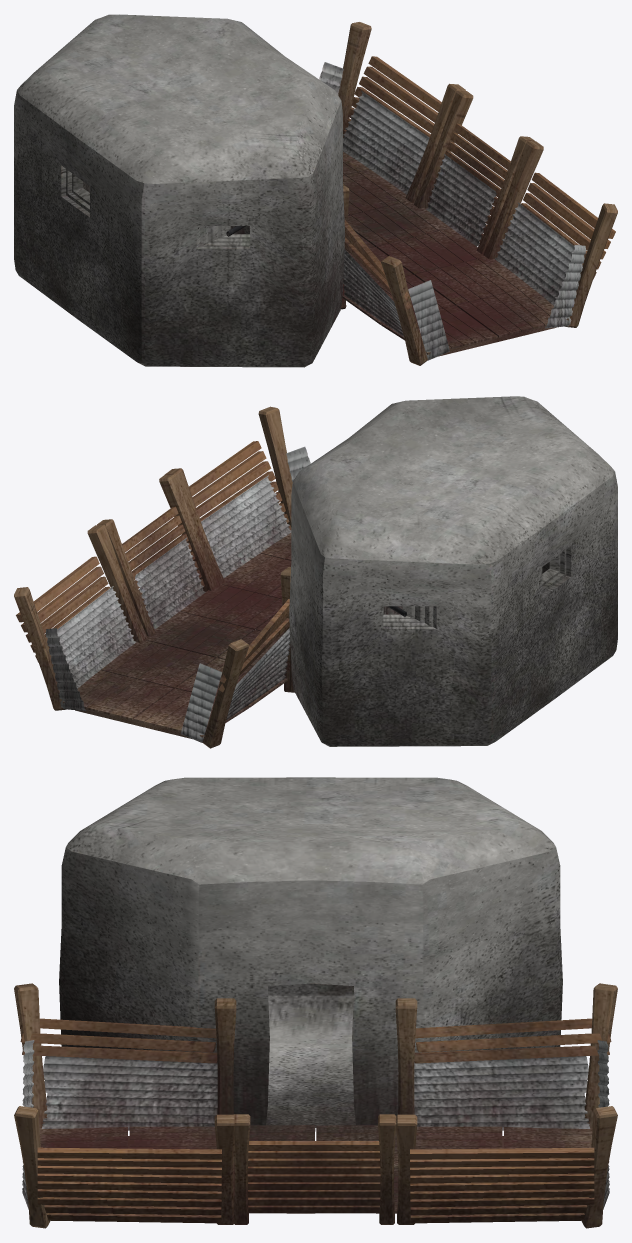
File: trench_bunker.glb
3 views of the same model, one above another, from view 1: azimuth 30°, elevation 25°; view 2: azimuth 150°, elevation 25°; view 3: azimuth 270°, elevation 25° (orthographic). The views are drawn at different scales.
Visible parts, largest first — view 1: Object359_Bunker section_0; view 2: Object359_Bunker section_0; view 3: Object359_Bunker section_0.
Boxes of the visible parts, x1,y1,x2,y2 form: Object359_Bunker section_0: [14, 14, 617, 367]; Object359_Bunker section_0: [14, 396, 617, 748]; Object359_Bunker section_0: [14, 777, 617, 1228].
Bounding box in the file's own units: 7.82 × 4.18 × 8.21.
1 material, 1 textured.
